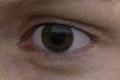eye: (43, 25, 73, 51)
